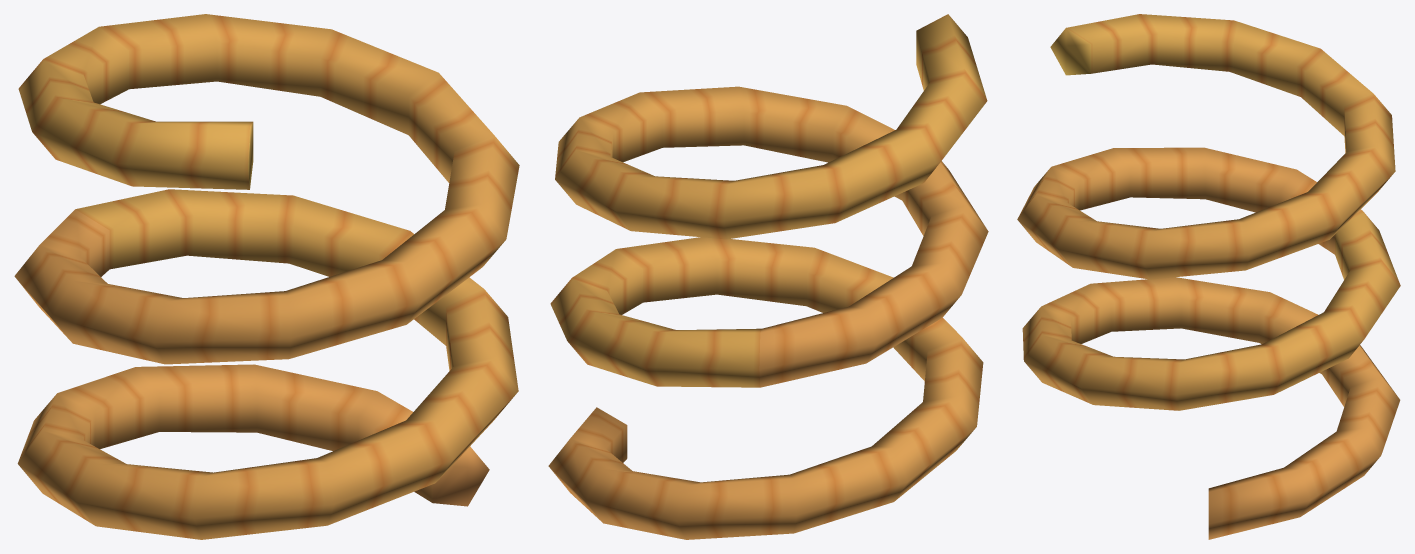
File: Rope.fbx
3 views of the same model, side by side, from view 1: azimuth 30°, elevation 25°; view 2: azimuth 150°, elevation 25°; view 3: azimuth 270°, elevation 25° (orthographic). The views are drawn at different scales.
Parts seen in each view (by area): view 1: polySurface2; view 2: polySurface2; view 3: polySurface2.
Part boxes in pixels (x1,y1,x2,y2): polySurface2: (14,14,519,539); polySurface2: (548,14,988,539); polySurface2: (1017,14,1400,539).
Size of the model in its own units: 1.85 by 2.1 by 1.84.
